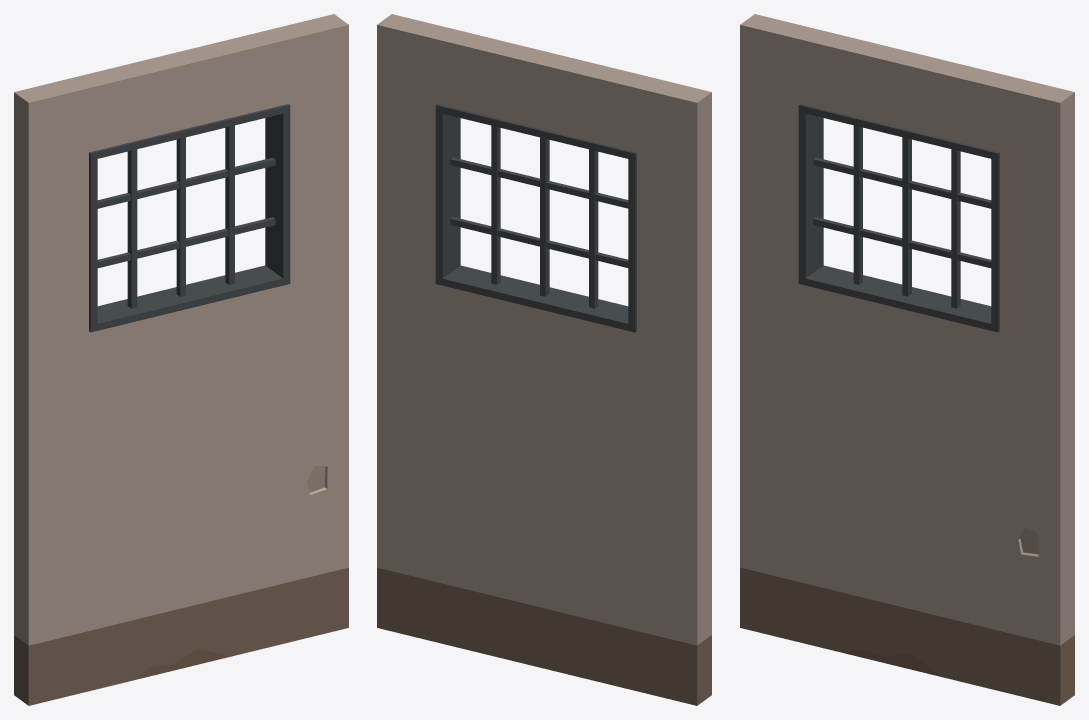
Rendered from Wall2_03.fbx.
3 renders of one model, left to right at view 1: azimuth 30°, elevation 25°; view 2: azimuth 150°, elevation 25°; view 3: azimuth 330°, elevation 25°, orthographic.
Parts seen in each view (by area): view 1: Wall2_03; view 2: Wall2_03; view 3: Wall2_03.
Part boxes in pixels (bbox=[...]): Wall2_03: bbox=[14, 14, 348, 705]; Wall2_03: bbox=[377, 14, 711, 705]; Wall2_03: bbox=[740, 14, 1074, 705].
Size of the model in its own units: 500 by 900 by 48.82.
